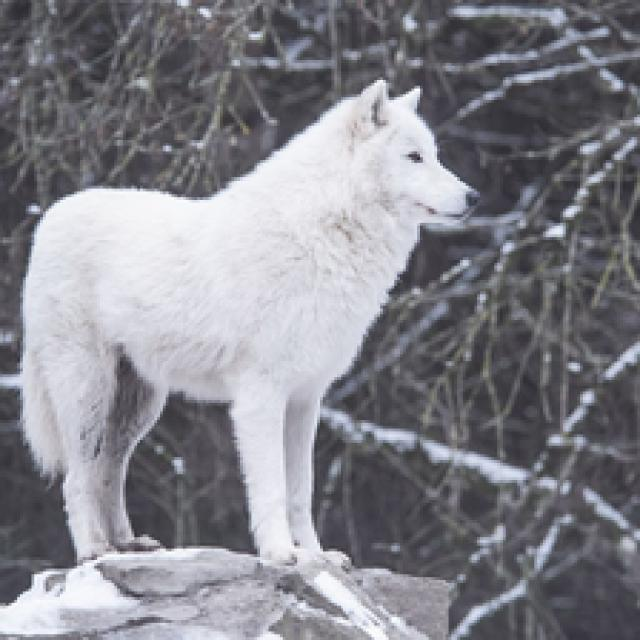wolf: (2, 39, 490, 640)
